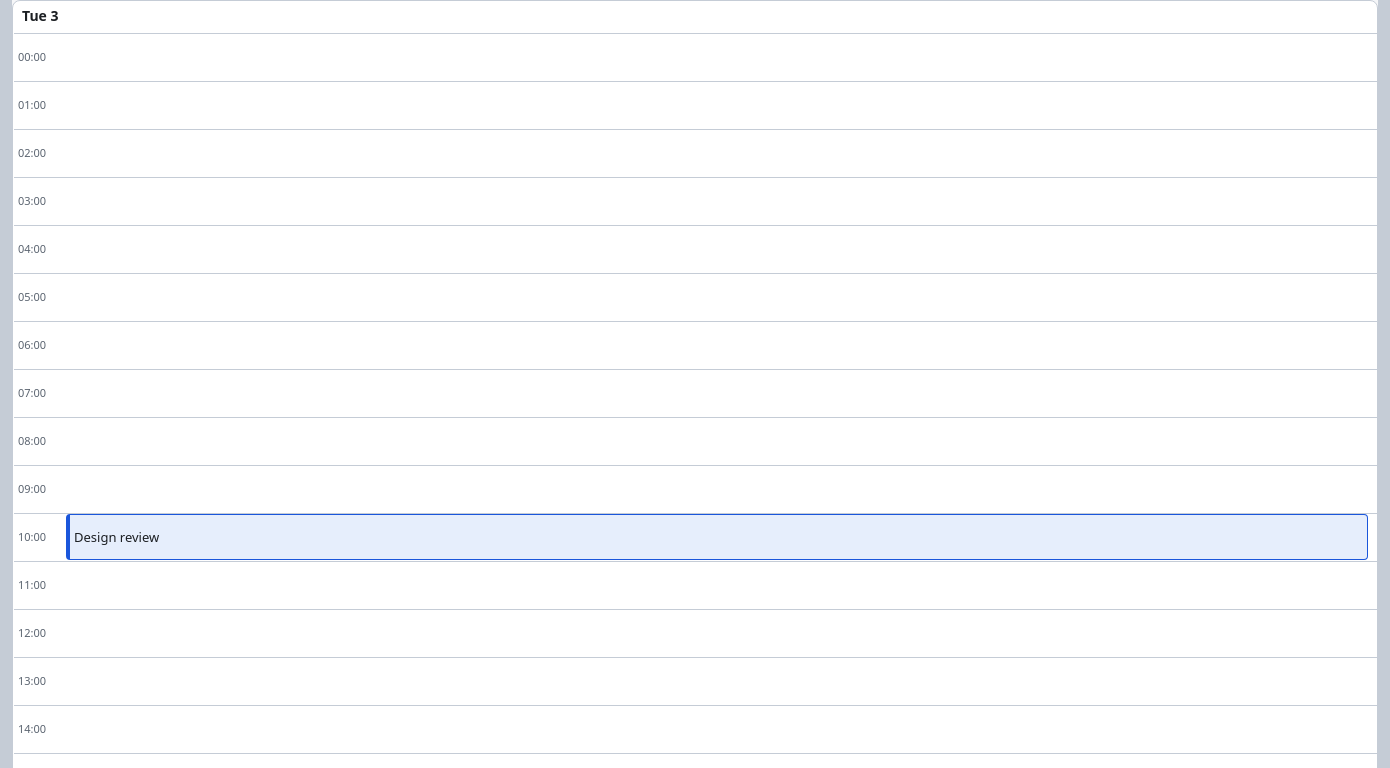
Test case: Calendar: messages › keeps the English text for every message that is left out
The image size is (1390, 768).
Click the button with aria-label "Design review,": click(117, 537) [66, 514, 1368, 560]
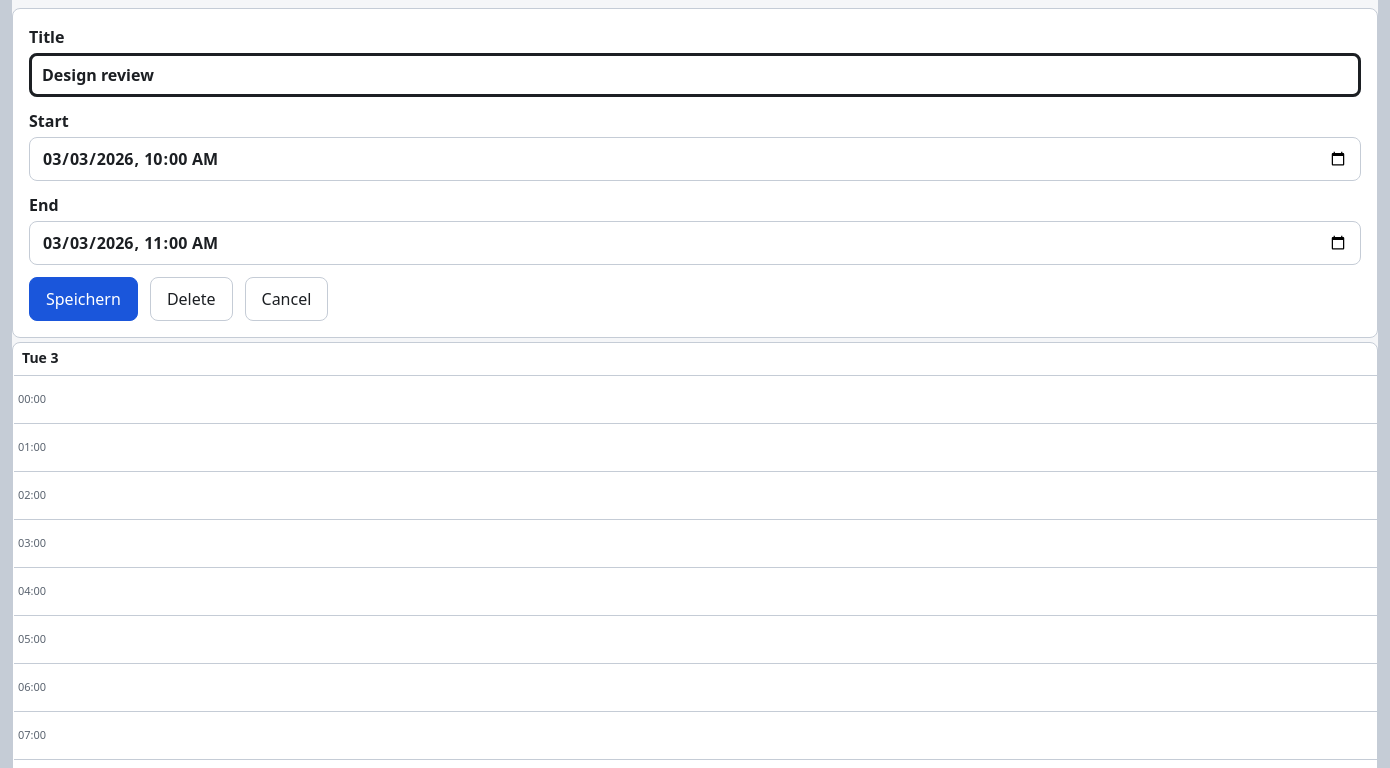
Result: the button "Speichern" is shown at [29, 277, 138, 321]
Result: the button "Cancel" is shown at [244, 277, 328, 321]
